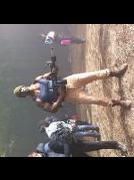gun: (48, 46, 68, 100)
